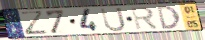4: (78, 8, 101, 34)
7: (44, 9, 67, 35)
D: (155, 5, 182, 31)
R: (130, 6, 161, 32)
U: (99, 7, 128, 33)
Z: (19, 10, 51, 36)
